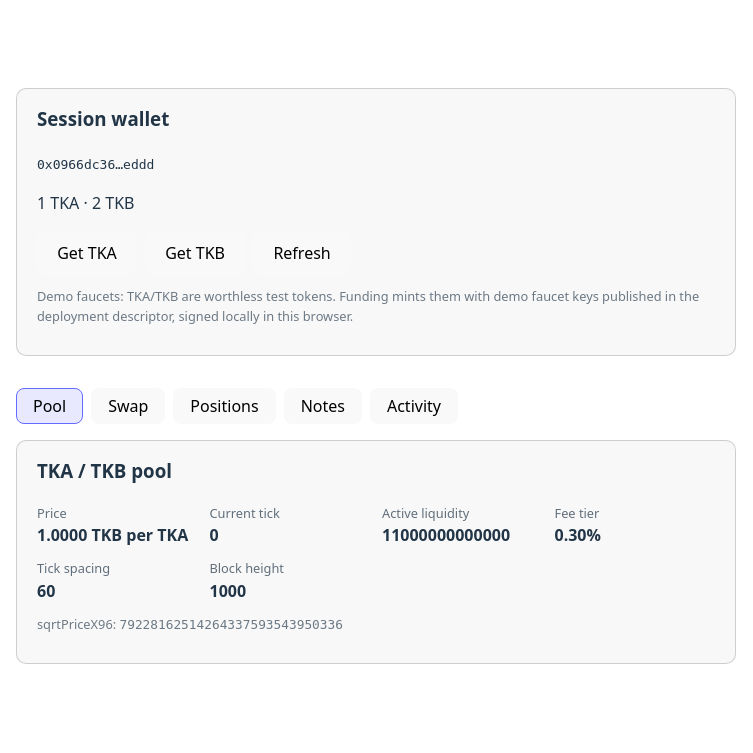
Test: ClammApp › switches between tabs
Click the button "Swap" at (128, 406), box 91,388 -> 165,424
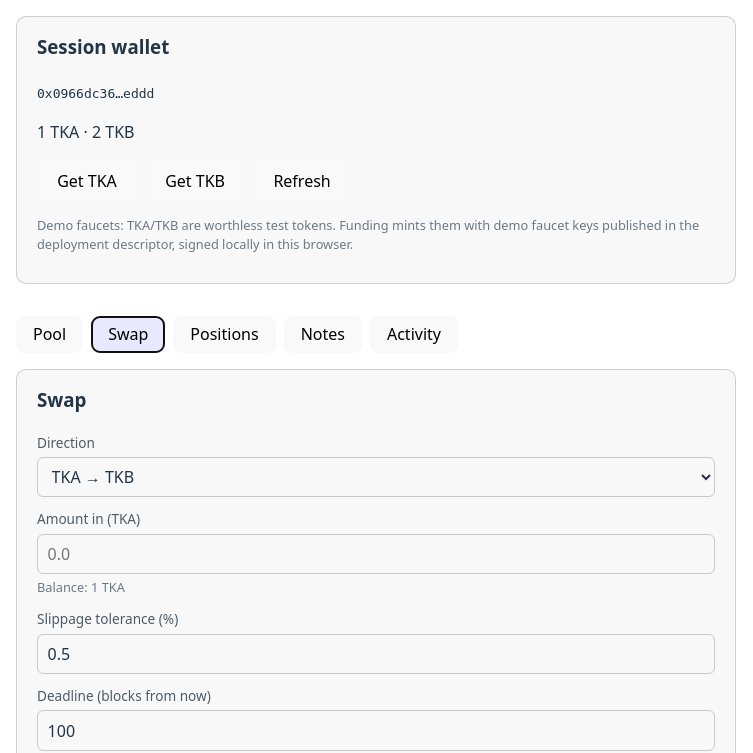
Click the button "Positions" at (224, 334), box 173,316 -> 276,353
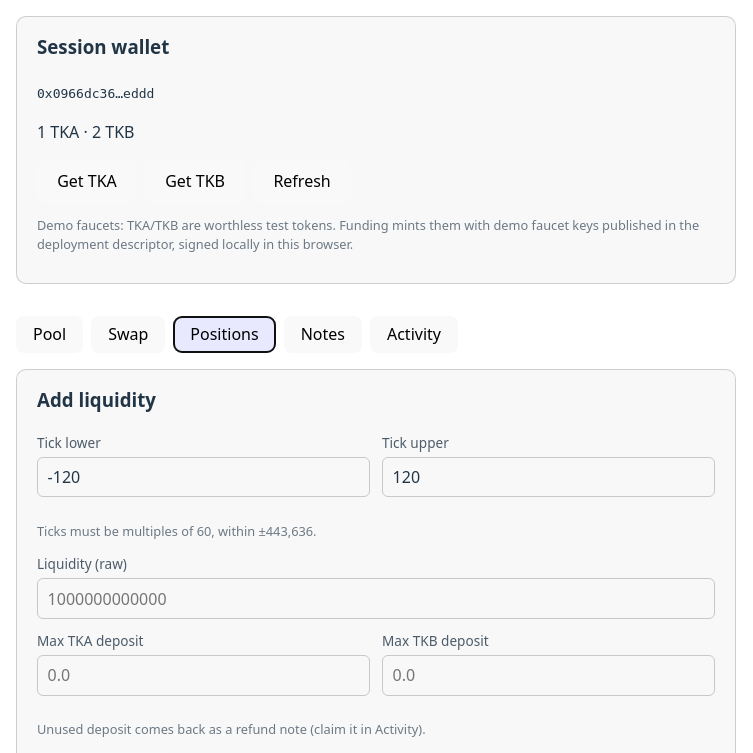
Result: the heading "Add liquidity" is shown at 37,387 -> 156,412
Click the button "Notes" at (323, 334), box 284,316 -> 362,353
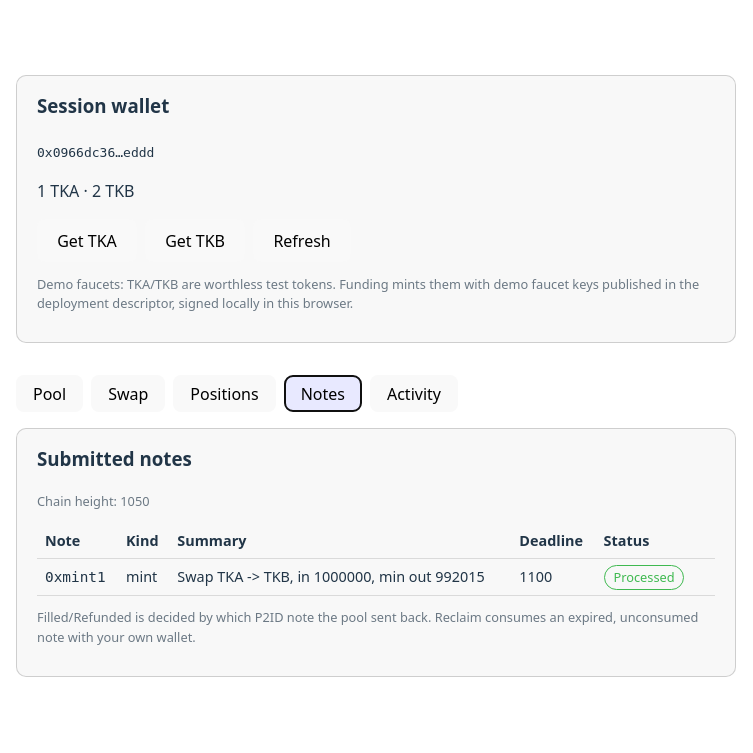
Result: the heading "Submitted notes" is shown at 37,446 -> 192,471
Click the button "Activity" at (414, 394), box 370,375 -> 458,412
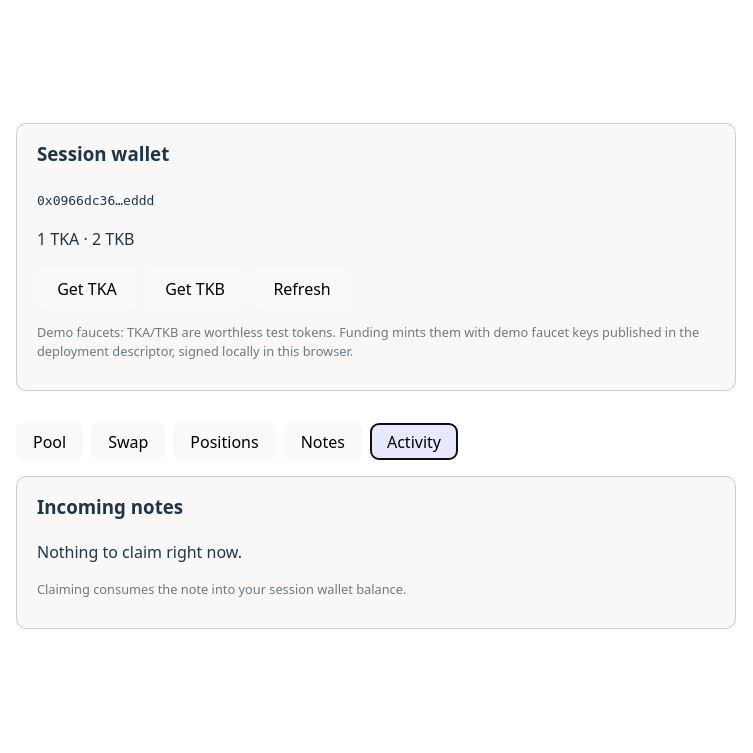
Result: the heading "Incoming notes" is shown at 37,494 -> 183,519
